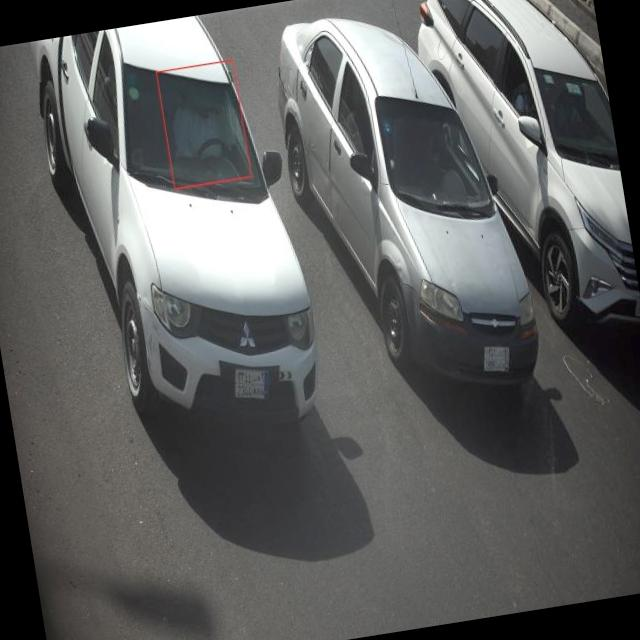person_without_seatbelt: (162, 68, 245, 178)
